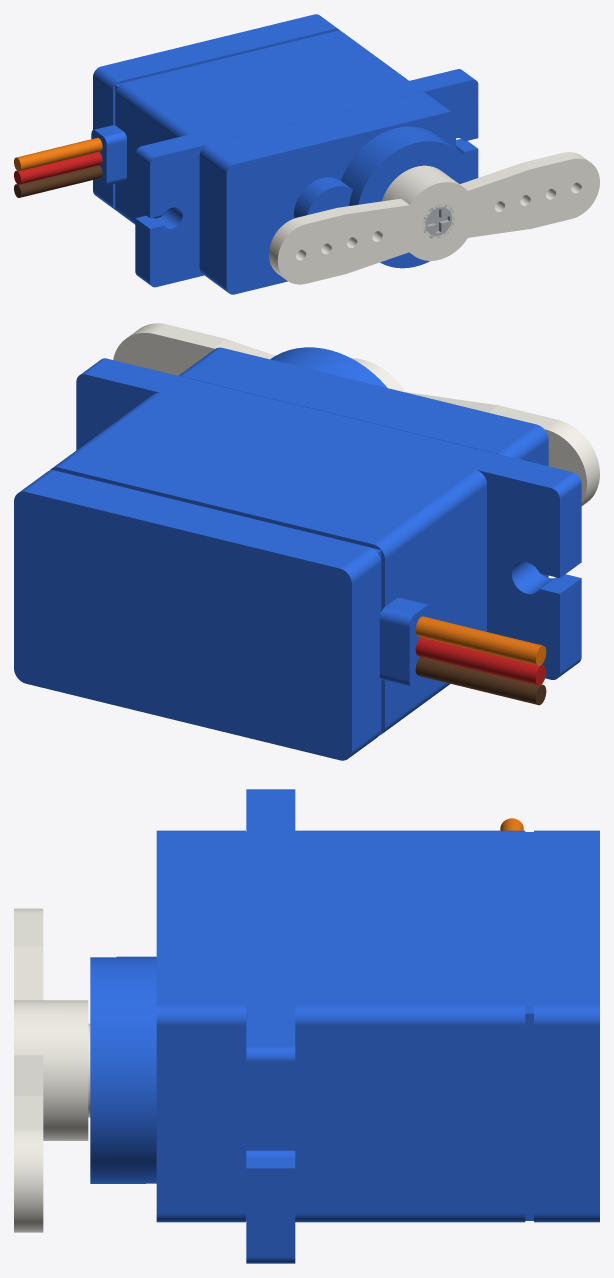
File: pan-servo.glb
3 renders of one model, top to bottom at view 1: azimuth 30°, elevation 25°; view 2: azimuth 150°, elevation 25°; view 3: azimuth 270°, elevation 25°, orthographic. The views are drawn at different scales.
Visible parts, largest first — view 1: pan-servo; view 2: pan-servo; view 3: pan-servo.
Boxes of the visible parts, x1,y1,x2,y2 form: pan-servo: [14, 14, 599, 294]; pan-servo: [14, 323, 599, 760]; pan-servo: [14, 789, 599, 1263].
Size of the model in its own units: 42.4 by 12.2 by 30.
